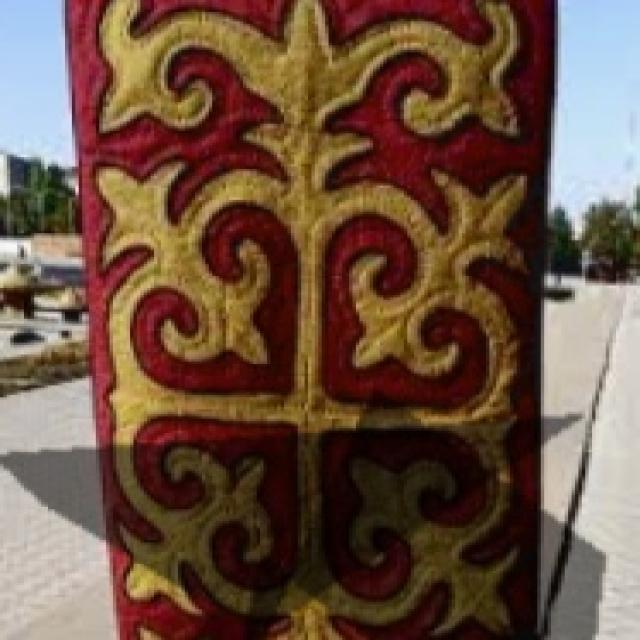Unity: (85, 145, 576, 636)
